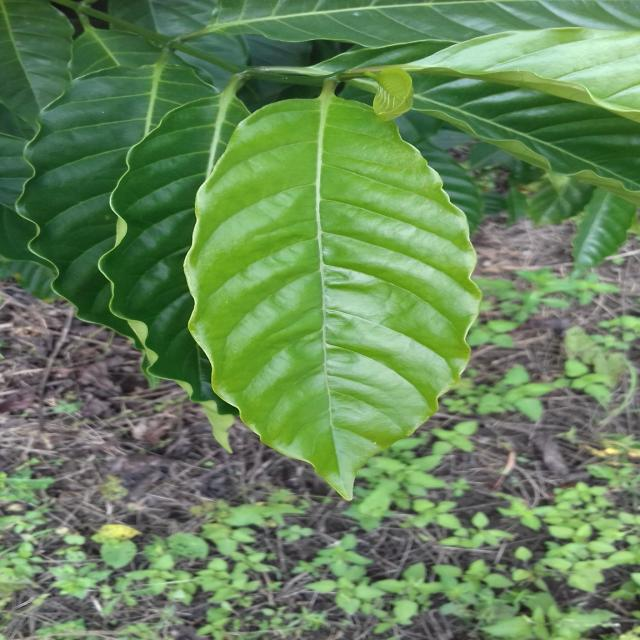Sanas: (183, 98, 479, 504)
